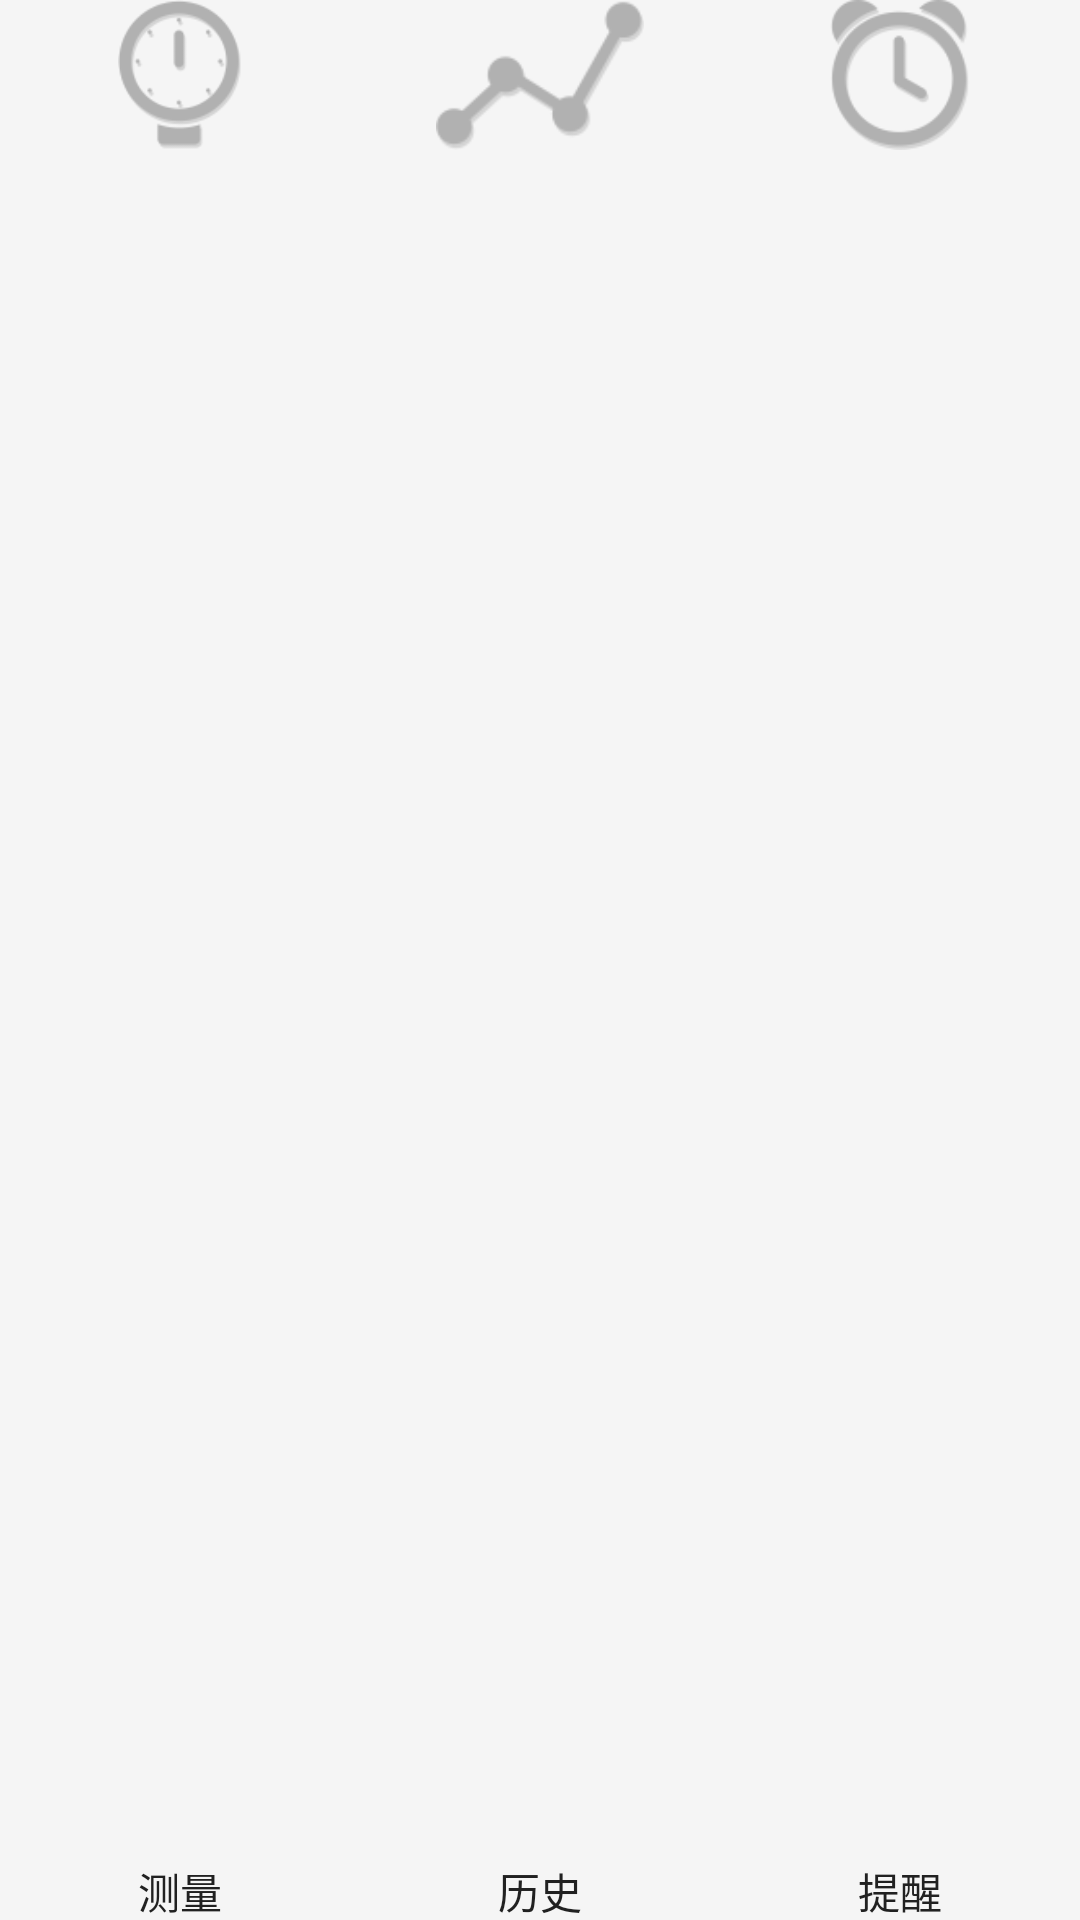

Named icons in this screenshot (1080px×1920px) and their bounding boxes, bbox(x1, y1, x2, y2):
history: bbox(436, 2, 642, 148)
measurements: bbox(119, 1, 240, 147)
remind: bbox(832, 0, 967, 148)
